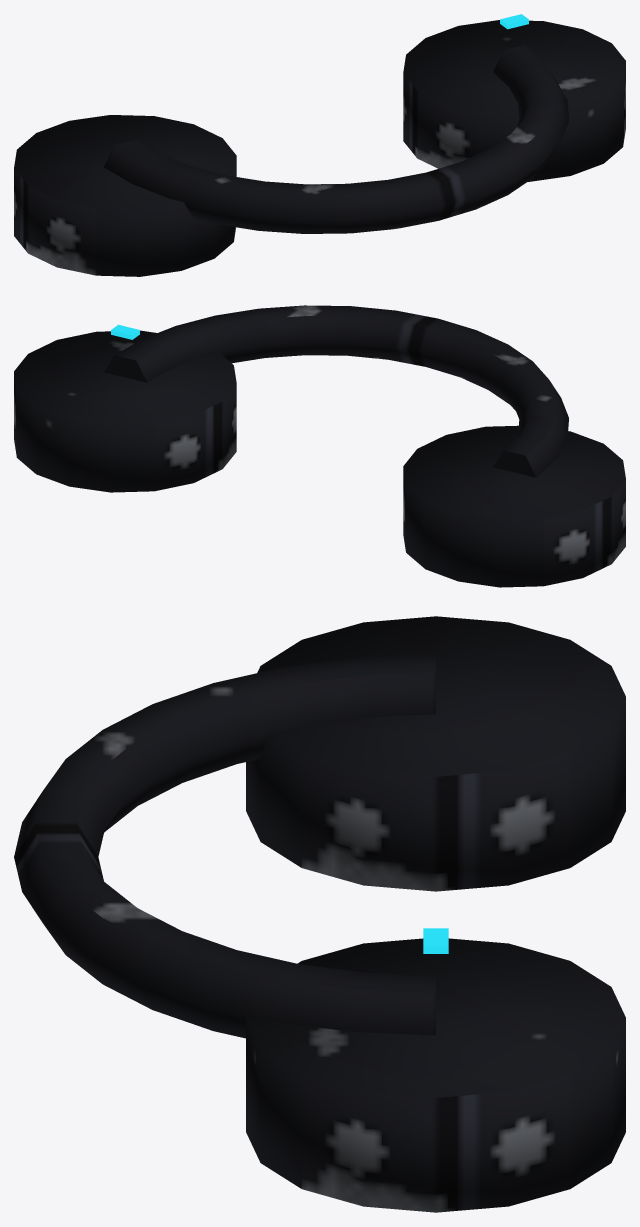
The model's file is Deco_Headphones.001.gltf.
3 renders of one model, top to bottom at view 1: azimuth 30°, elevation 25°; view 2: azimuth 150°, elevation 25°; view 3: azimuth 270°, elevation 25°, orthographic. The views are drawn at different scales.
Parts seen in each view (by area): view 1: Deco_Headphones.001; view 2: Deco_Headphones.001; view 3: Deco_Headphones.001.
Boxes of the visible parts, left/top/right/bottom form: Deco_Headphones.001: left=14, top=14, right=625, bottom=276; Deco_Headphones.001: left=14, top=305, right=625, bottom=587; Deco_Headphones.001: left=14, top=616, right=625, bottom=1212.
Size of the model in its own units: 0.27 by 0.051 by 0.145.
Materials: 2 (1 with a texture image).
